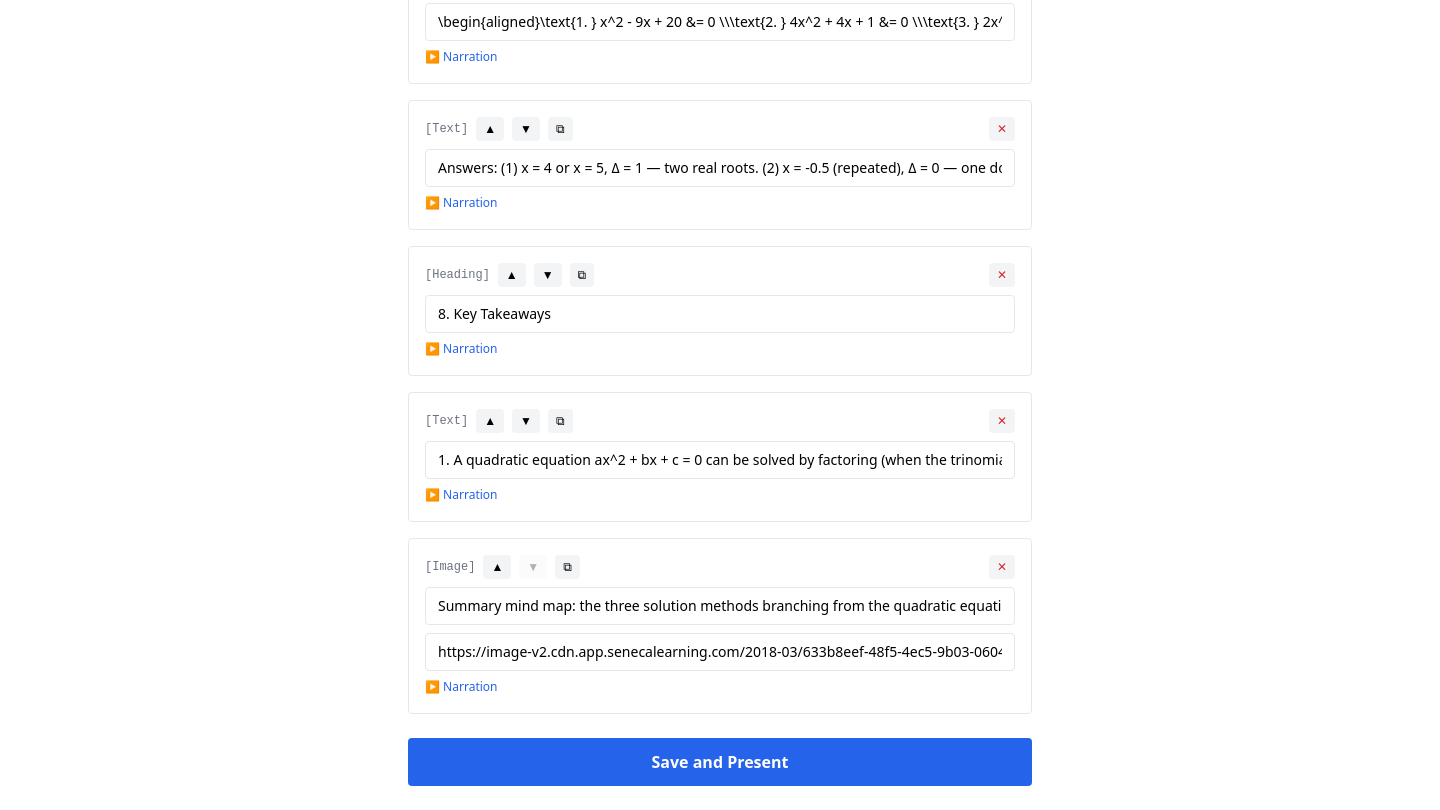
App › single-lesson flow (backward compat) › transitions to PresentationStage after save
This screenshot has width=1440, height=810.
(page scrolled)
Click the button "Save and Present": (720, 762) [408,738,1032,786]
(page scrolled)
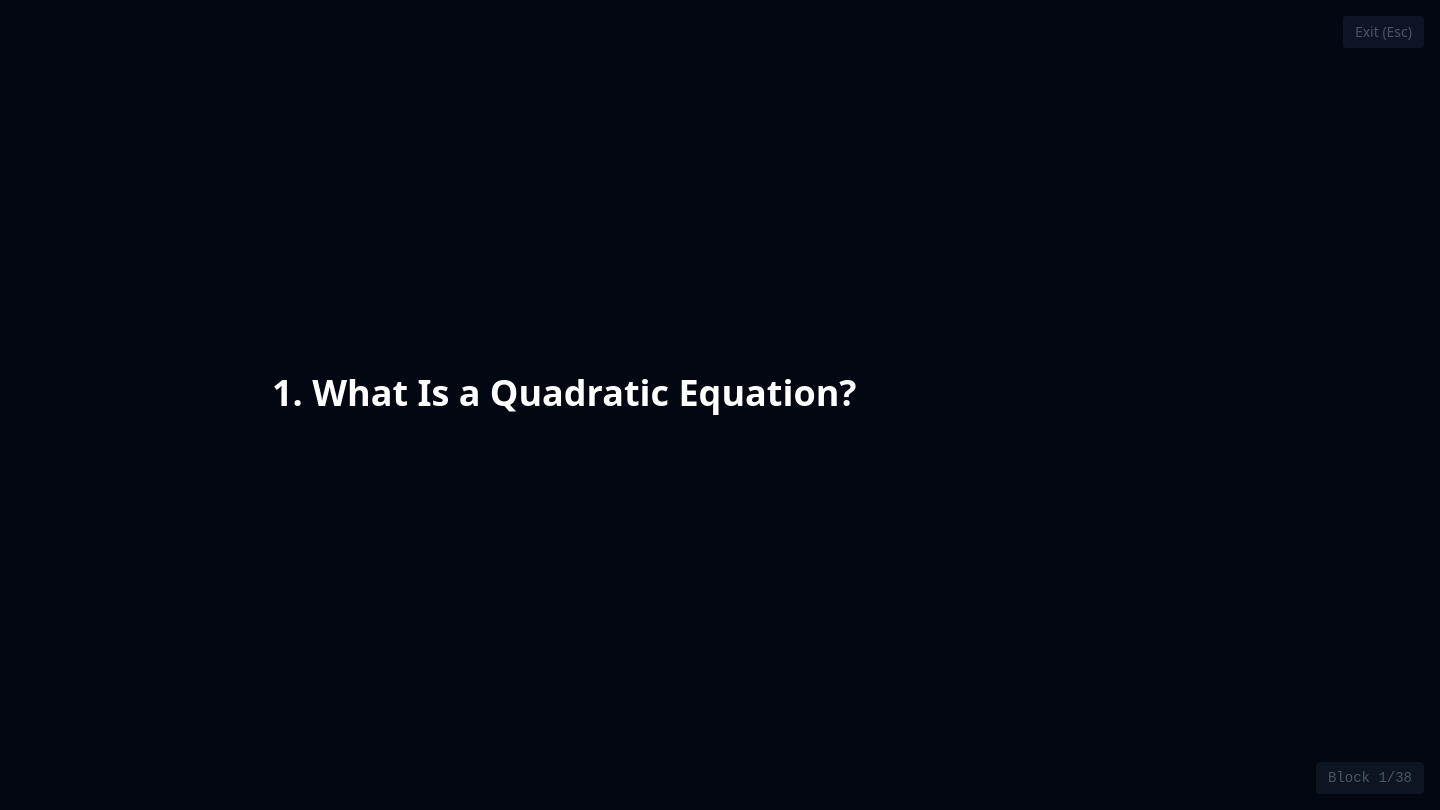
Expected: the heading "1. What Is a Quadratic Equation?" is shown, [272,368,856,417]
